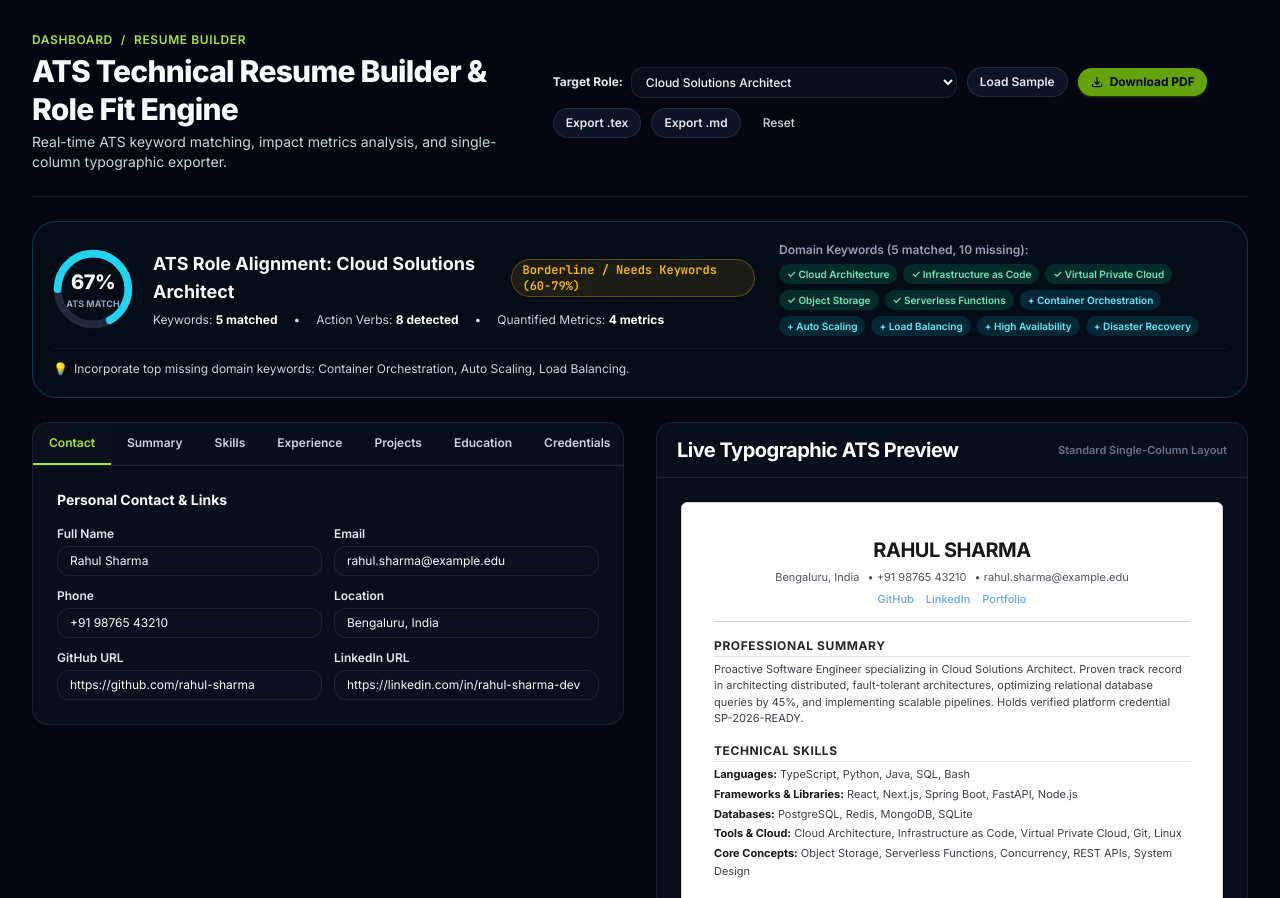
ResumeBuilderPage › resets resume fields and restores sample data
What coordinates should you click on to do the following:
click the button with aria-label "Reset Resume"
I would click on:
 (779, 122)
Its box is [751,108,807,136].
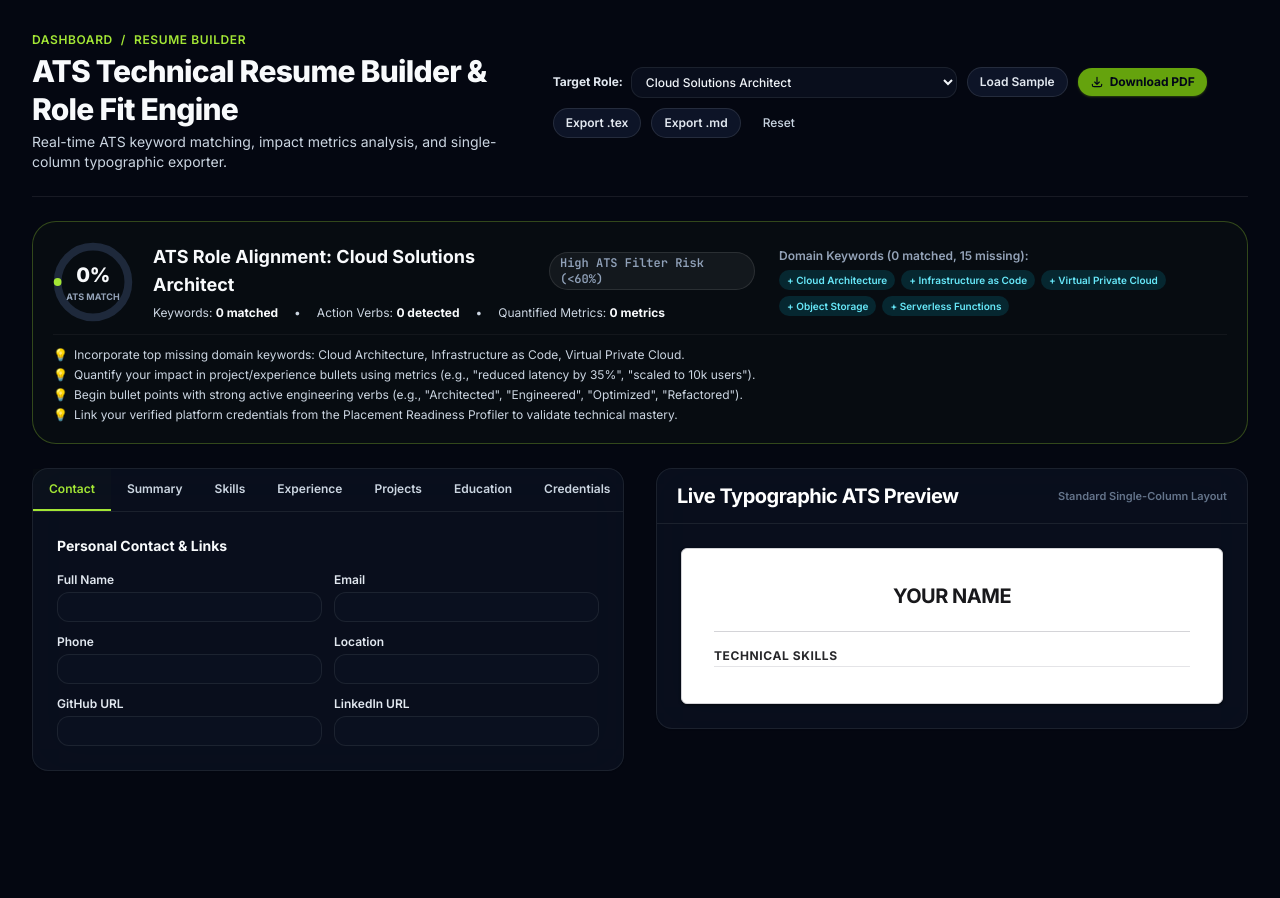
Expected: the heading "YOUR NAME" is shown, [893,584,1011,608]
// Load Sample
What coordinates should you click on to do the following:
click the button with aria-label "Load Sample Resume"
I would click on:
 (1017, 82)
Its box is [967,67,1068,97].
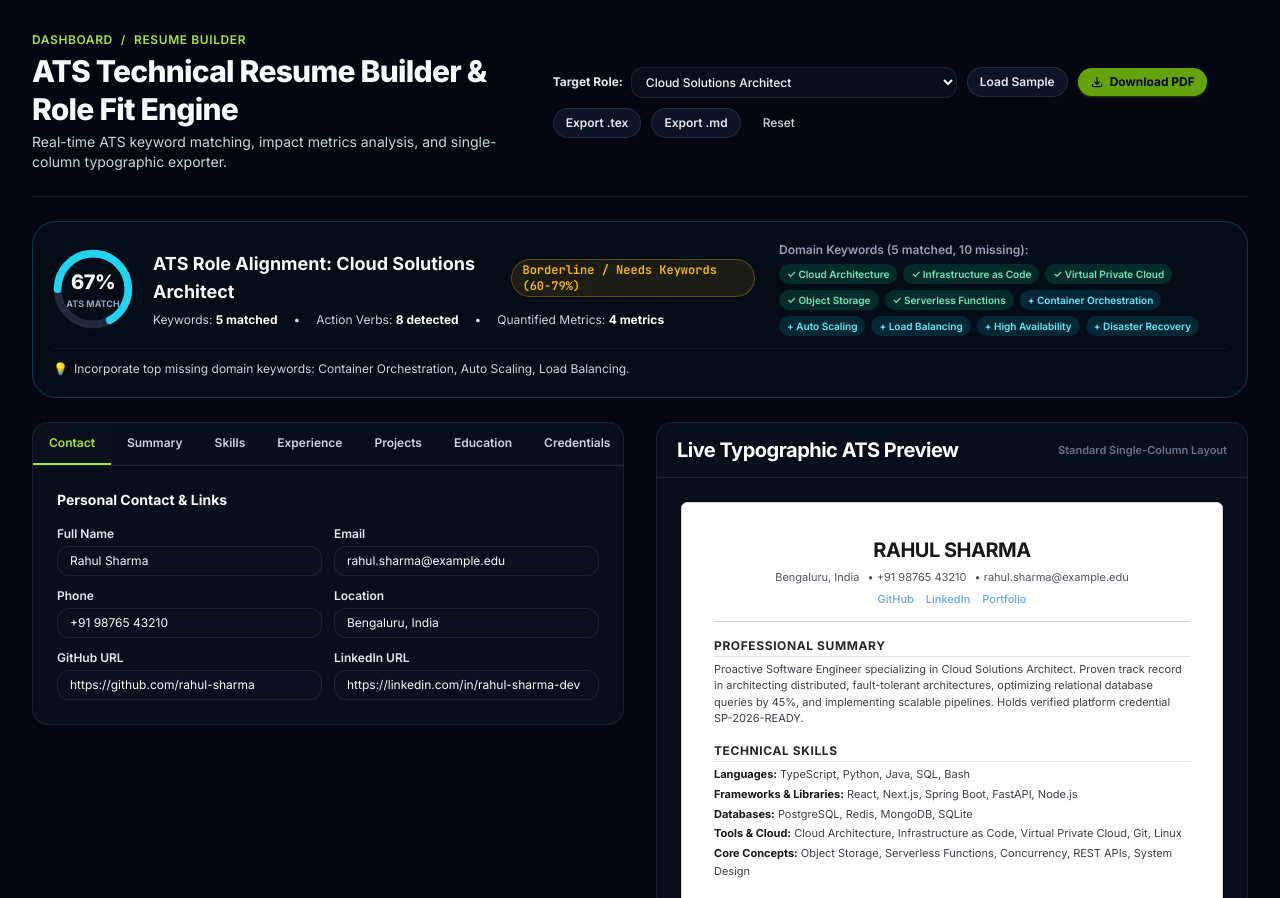
Expected: the heading "Rahul Sharma" is shown, [873,538,1031,562]
